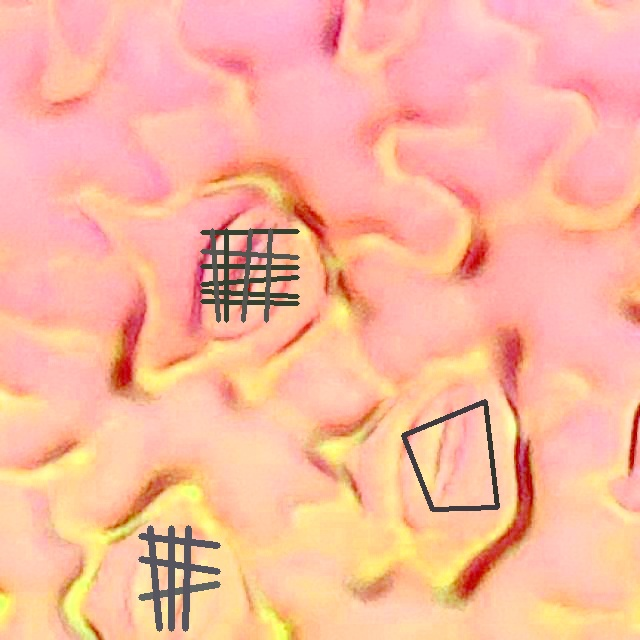open: (401, 399, 499, 511), (200, 228, 299, 322), (138, 525, 220, 631)
